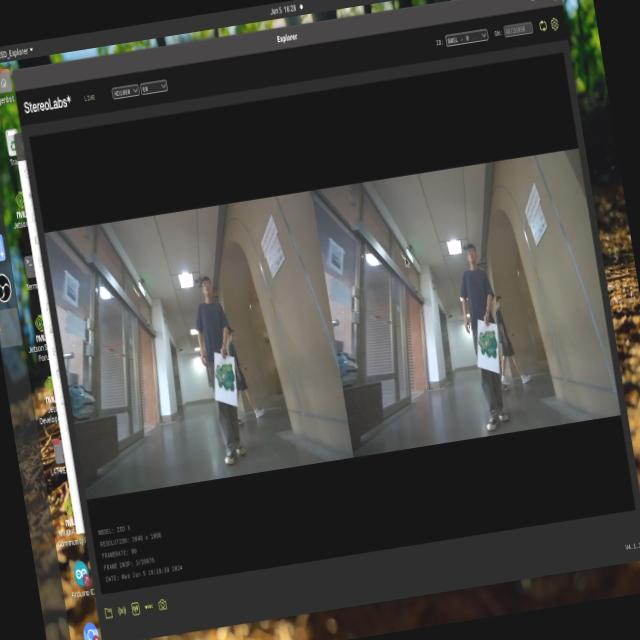green: (207, 353, 244, 402), (476, 332, 504, 372)
